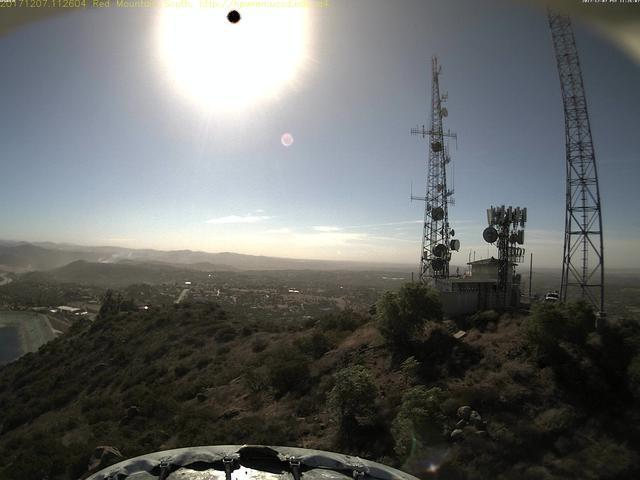Smoke: (90, 244, 144, 267)
